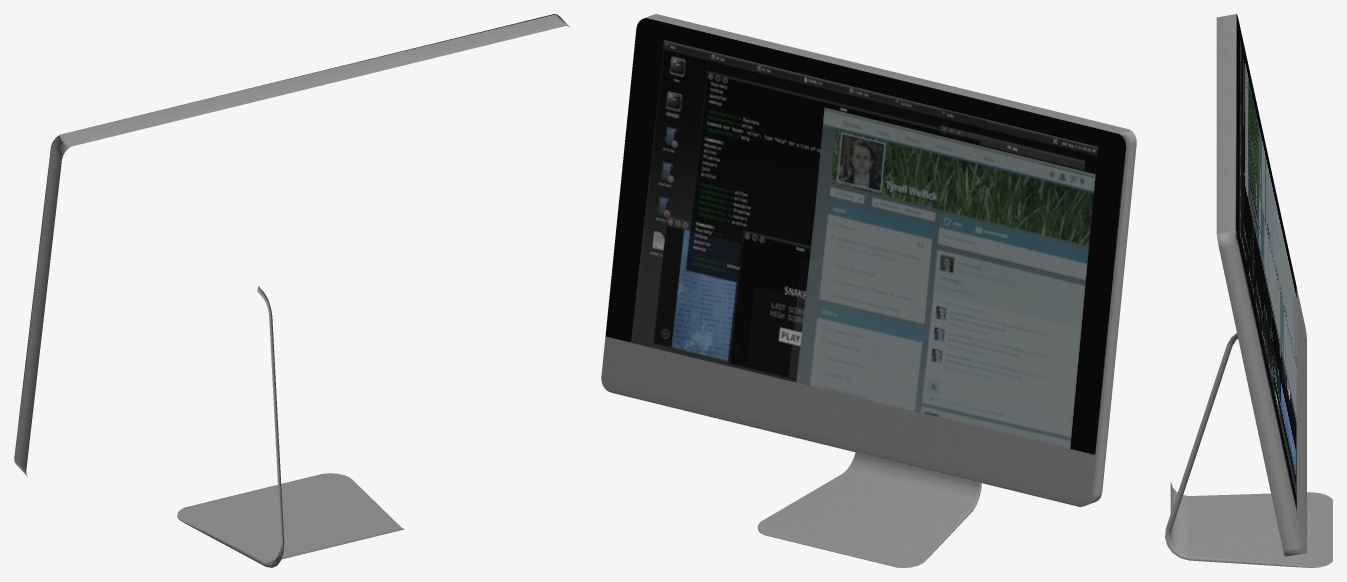
Rendered from mac2.gltf.
3 renders of one model, left to right at view 1: azimuth 30°, elevation 25°; view 2: azimuth 150°, elevation 25°; view 3: azimuth 270°, elevation 25°, orthographic. The views are drawn at different scales.
Visible parts, largest first — view 1: macmac_air; view 2: macmac_air; view 3: macmac_air.
Boxes of the visible parts, x1,y1,x2,y2 form: macmac_air: (14, 14, 569, 567); macmac_air: (601, 14, 1136, 567); macmac_air: (1165, 14, 1332, 567).
Bounding box in the file's own units: 0.6498 × 0.5552 × 0.2065.
Materials: 1 (1 with a texture image).
